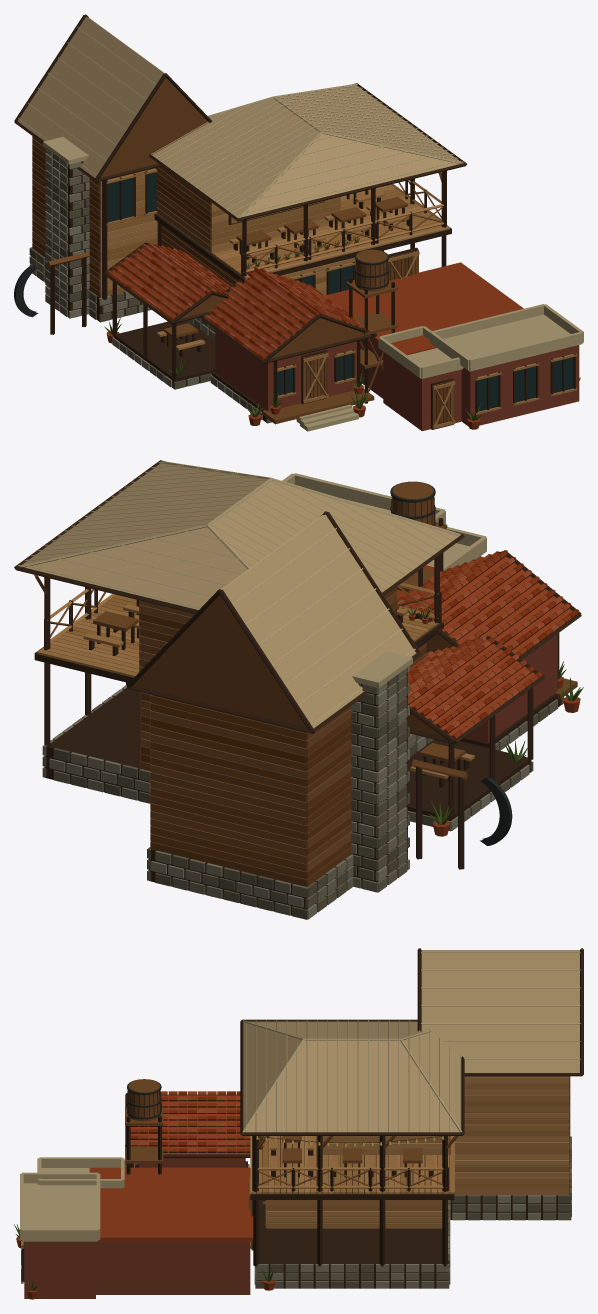
The model's file is rancho-medialuna-v1.glb.
The picture shows the model from 3 angles, top to bottom: view 1: azimuth 30°, elevation 25°; view 2: azimuth 150°, elevation 25°; view 3: azimuth 270°, elevation 25°; orthographic projection. The views are drawn at different scales.
Parts seen in each view (by area): view 1: Rancho_Media_Luna_V1; view 2: Rancho_Media_Luna_V1; view 3: Rancho_Media_Luna_V1.
Boxes of the visible parts, <box> form: Rancho_Media_Luna_V1: <box>14,14,583,431</box>; Rancho_Media_Luna_V1: <box>14,460,583,919</box>; Rancho_Media_Luna_V1: <box>14,948,583,1299</box>.
Bounding box in the file's own units: 18.61 × 11.5 × 24.58.
